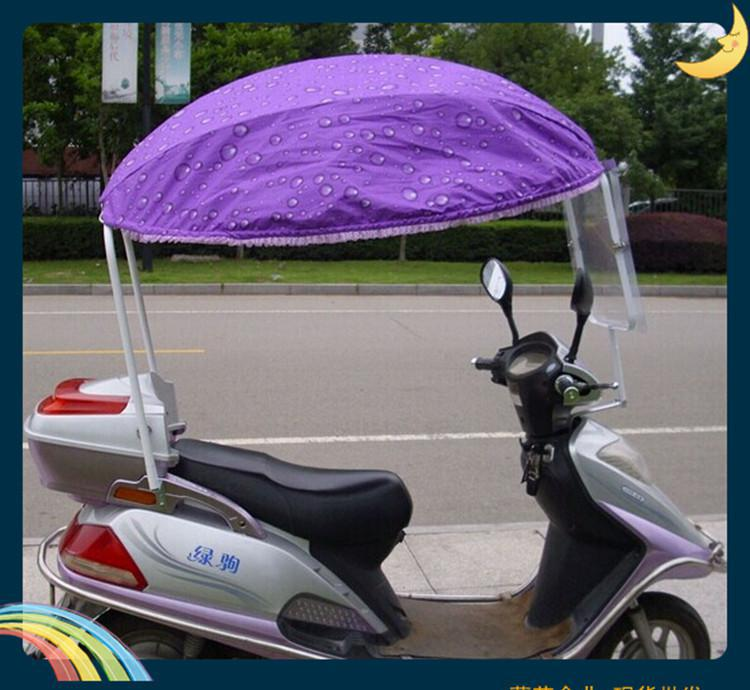电动车: (16, 247, 730, 658)
